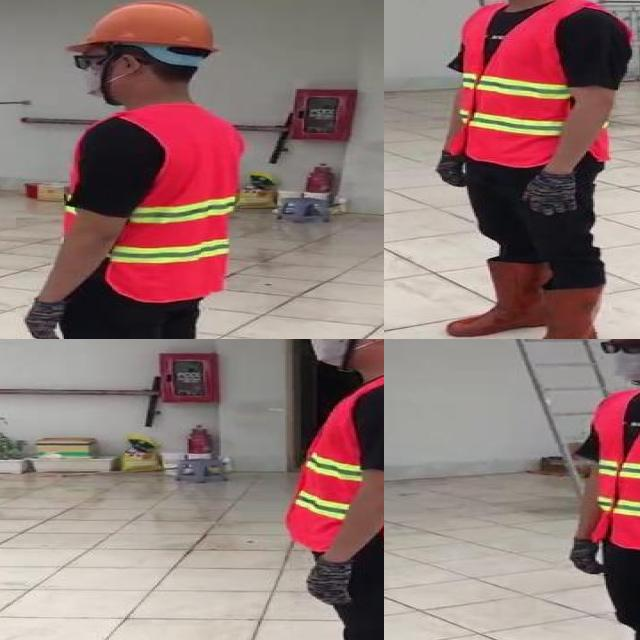boots: (444, 259, 548, 338), (497, 288, 612, 339)
face_mask: (303, 339, 360, 368), (601, 339, 640, 381)
glasses: (590, 339, 640, 356)
hand_glove: (518, 175, 590, 218), (304, 556, 352, 608), (23, 298, 73, 339), (567, 537, 608, 578), (438, 150, 478, 190)
head_helmet: (70, 0, 222, 54)
person: (0, 0, 265, 339), (420, 0, 635, 339), (258, 339, 384, 640), (554, 339, 640, 640)
vest: (445, 0, 634, 170), (112, 105, 252, 299), (287, 374, 381, 551), (588, 385, 640, 555)
